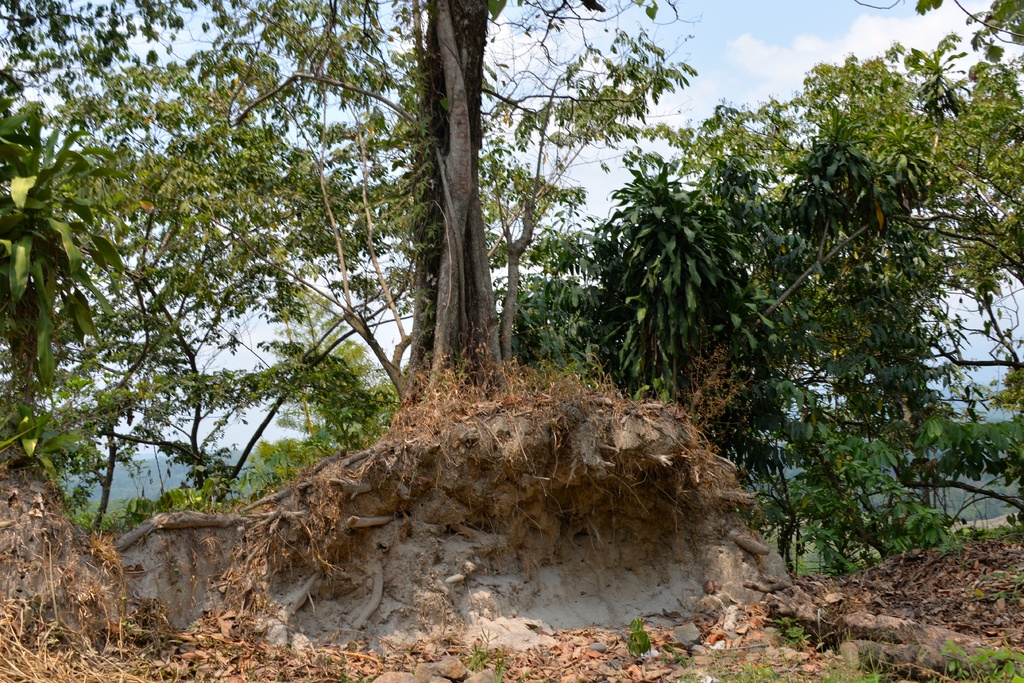Tree: (1, 0, 1024, 644)
